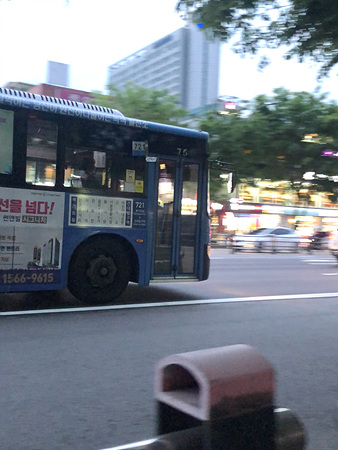entrance: (148, 151, 200, 281)
